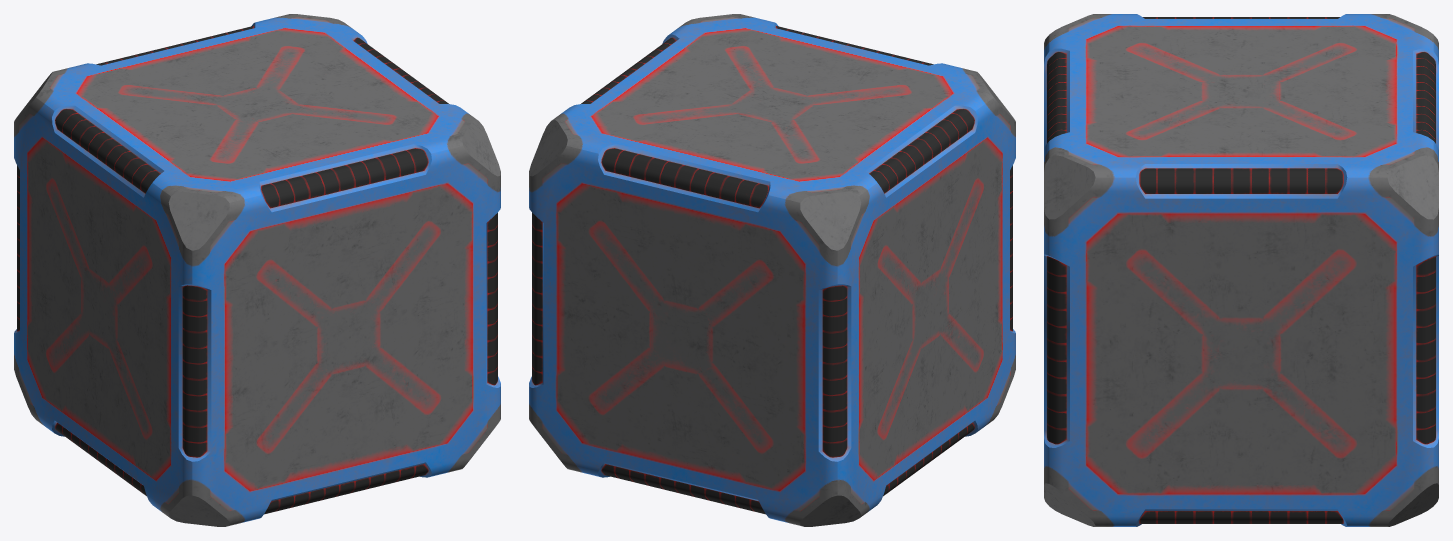
The picture shows the model from 3 angles, left to right: view 1: azimuth 30°, elevation 25°; view 2: azimuth 150°, elevation 25°; view 3: azimuth 270°, elevation 25°; orthographic projection. The views are drawn at different scales.
Visible parts, largest first — view 1: Sci-fi_Box_Куб.003; view 2: Sci-fi_Box_Куб.003; view 3: Sci-fi_Box_Куб.003.
Part boxes in pixels (box(x1,y1,x2,y2)): Sci-fi_Box_Куб.003: box(14, 14, 500, 526); Sci-fi_Box_Куб.003: box(529, 14, 1015, 526); Sci-fi_Box_Куб.003: box(1044, 14, 1438, 526).
Bounding box in the file's own units: 2 × 2 × 2.
1 material, 1 textured.
